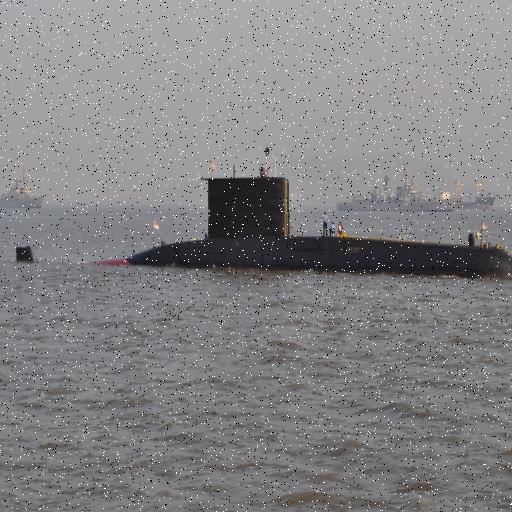submarine: (15, 175, 512, 279)
